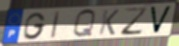G: (22, 12, 47, 41)
I: (49, 10, 62, 40)
K: (98, 9, 121, 36)
Q: (71, 9, 97, 40)
V: (148, 5, 174, 35)
Z: (120, 6, 150, 36)
